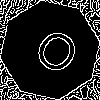O: (25, 25, 84, 85)
